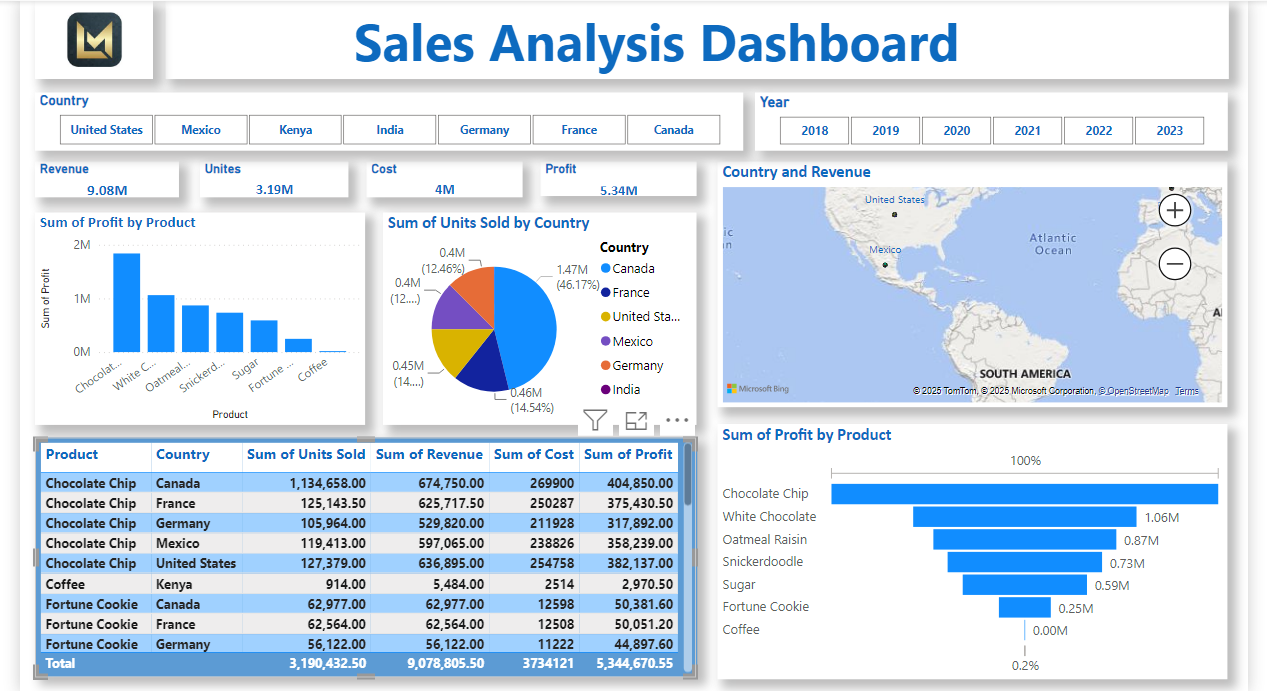

Layout of this report page (visuals, bound fields, positions):
{"tool":"powerbi","page":{"name":"Page 1","canvas":[1280,720],"ordinal":0},"visuals":[{"type":"textbox","box":[151.6,0,1108.2,81.3],"z":0},{"type":"image","box":[15.6,0,123.5,81.3],"z":1000},{"type":"card","title":"Revenue","fields":{"Values":["Sum(Sheet1.Revenue)"]},"box":[15.6,167.2,150,37.5],"z":2000},{"type":"card","title":"Profit","fields":{"Values":["Sum(Sheet1.Profit)"]},"box":[542.4,167.2,162.6,35.9],"z":3000},{"type":"card","title":"Cost","fields":{"Values":["Sum(Sheet1.Cost)"]},"box":[361.1,167.2,162.6,37.5],"z":4000},{"type":"card","title":"Unites","fields":{"Values":["Sum(Sheet1.Units Sold)"]},"box":[187.6,167.2,154.7,37.5],"z":5000},{"type":"clusteredColumnChart","fields":{"Category":["Sheet1.Product"],"Y":["Sum(Sheet1.Profit)"]},"box":[15.1,221.1,343.9,221.1],"z":6000},{"type":"pieChart","fields":{"Category":["Sheet1.Country"],"Y":["Sum(Sheet1.Units Sold)"]},"box":[378,221.1,326.9,221.1],"z":7000},{"type":"map","fields":{"Category":["Sheet1.Country"],"Series":["Sheet1.Revenue"]},"box":[726.8,167.2,531.4,256.3],"z":8000},{"type":"funnel","fields":{"Category":["Sheet1.Product"],"Y":["Sum(Sheet1.Profit)"]},"box":[726.8,440.8,531.4,265.7],"z":9000},{"type":"tableEx","fields":{"Values":["Sheet1.Product","Sheet1.Country","Sum(Sheet1.Units Sold)","Sum(Sheet1.Revenue)","Sum(Sheet1.Cost)","Sum(Sheet1.Profit)"]},"box":[15.1,455.4,689.8,249.5],"z":10000},{"type":"slicer","title":"Country","fields":{"Values":["Sheet1.Country"]},"box":[15.6,95.3,737.7,61],"z":11000},{"type":"slicer","title":"Year","fields":{"Values":["Sheet1.Year"]},"box":[765.9,95.3,492.3,61],"z":12000}]}

Visuals, with their boxes on the page's 1280x720 design canvas (x1, y1, x2, y2). These are canvas units, not pixel positions in the 1267x691 screenshot, which may show the page scaled, cropped or inside an application window:
textbox: crop(152, 0, 1260, 81)
image: crop(16, 0, 139, 81)
"Revenue" card: crop(16, 167, 166, 205)
"Profit" card: crop(542, 167, 705, 203)
"Cost" card: crop(361, 167, 524, 205)
"Unites" card: crop(188, 167, 342, 205)
clusteredColumnChart - Sheet1.Product x Sum(Sheet1.Profit): crop(15, 221, 359, 442)
pieChart - Sheet1.Country x Sum(Sheet1.Units Sold): crop(378, 221, 705, 442)
map - Sheet1.Country x Sheet1.Revenue: crop(727, 167, 1258, 424)
funnel - Sheet1.Product x Sum(Sheet1.Profit): crop(727, 441, 1258, 706)
tableEx - Sheet1.Product x Sheet1.Country: crop(15, 455, 705, 705)
"Country" slicer: crop(16, 95, 753, 156)
"Year" slicer: crop(766, 95, 1258, 156)
